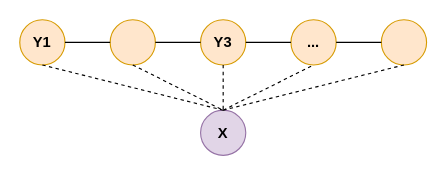
This 446x175 diagram has some shape labels left out. Here are the shapes that lost their labels. From the top down, the centre of each, then its label:
At point (132, 42): "Y2".
At point (403, 42): "Yn".
